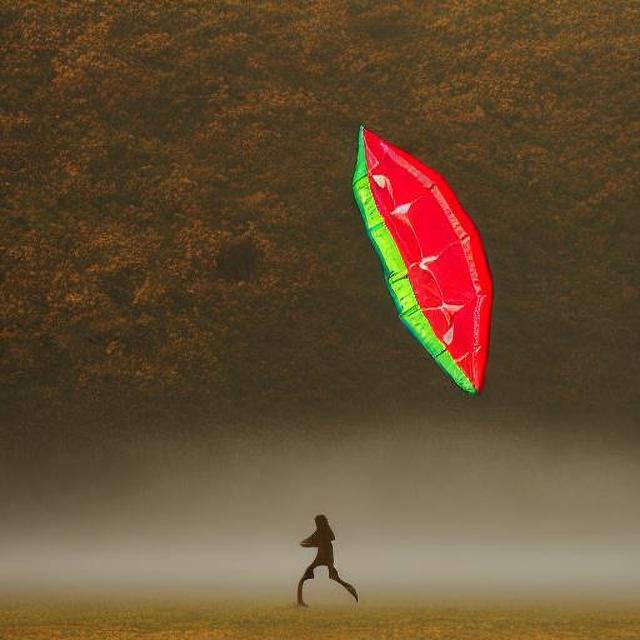floating object: (348, 122, 494, 396)
